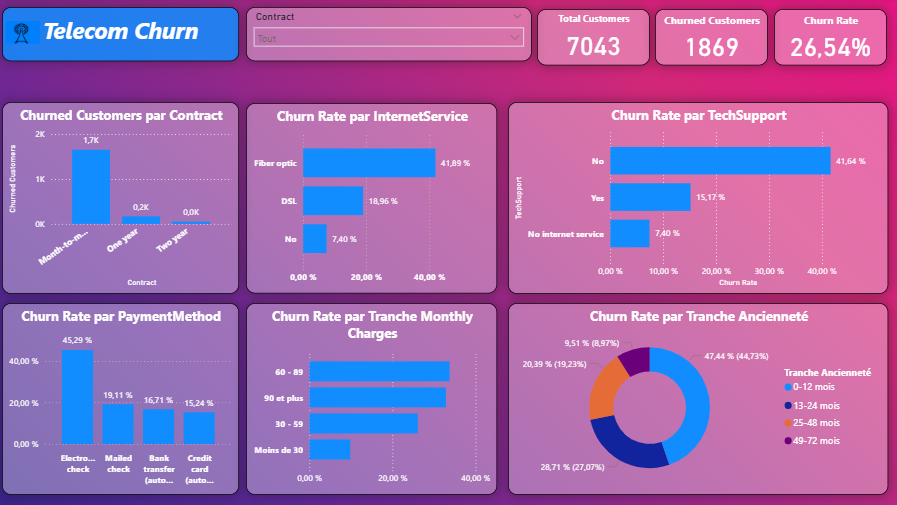

Layout of this report page (visuals, bound fields, positions):
{"tool":"powerbi","page":{"name":"Telecom churn","canvas":[1280,720],"ordinal":0},"visuals":[{"type":"textbox","box":[9.4,12.1,336.3,76.7],"z":0},{"type":"donutChart","fields":{"Category":["gold_fact_customer_churn.Tranche Ancienneté"],"Y":["gold_dim_contract.Churn Rate"]},"box":[727.7,431.8,539.4,271.7],"z":1000},{"type":"barChart","fields":{"Category":["gold_dim_customer.TechSupport"],"Y":["gold_dim_contract.Churn Rate"]},"box":[727.7,148,539.4,271.7],"z":2000},{"type":"clusteredColumnChart","fields":{"Y":["gold_dim_contract.Churn Rate"],"Category":["gold_dim_customer.PaymentMethod"]},"box":[9.4,431.8,336.3,271.7],"z":3000},{"type":"barChart","fields":{"Category":["gold_dim_customer.InternetService"],"Y":["gold_dim_contract.Churn Rate"]},"box":[355.1,149.3,356.5,270.4],"z":4000},{"type":"card","title":"Churn Rate","fields":{"Values":["gold_dim_contract.Churn Rate1"]},"box":[1104,16,160,80],"z":5000},{"type":"card","title":"Total Customers","fields":{"Values":["gold_dim_contract.Total Customers"]},"box":[768,16,160,80],"z":6000},{"type":"clusteredColumnChart","fields":{"Category":["gold_dim_contract.Contract"],"Y":["gold_dim_contract.Churned Customers"]},"box":[9.4,148,336.3,271.7],"z":7000},{"type":"clusteredBarChart","fields":{"Category":["gold_fact_customer_churn.Tranche Monthly Charges"],"Y":["gold_dim_contract.Churn Rate"]},"box":[355.1,431.8,356.5,271.7],"z":8000},{"type":"slicer","fields":{"Values":["gold_dim_contract.Contract"]},"box":[355.1,12.1,404.9,76.7],"z":9000},{"type":"card","title":"Churned Customers","fields":{"Values":["gold_dim_contract.Total Customers"]},"box":[936,16,160,80],"z":10000},{"type":"image","box":[16,32,48,32],"z":11000}]}

Visuals, with their boxes in screenshot pixels (x1, y1, x2, y2), scaled from the page's 1280x720 canvas onto the 897x505 screenshot:
textbox: [7, 8, 242, 62]
donutChart - gold_fact_customer_churn.Tranche Ancienneté x gold_dim_contract.Churn Rate: [510, 303, 888, 493]
barChart - gold_dim_customer.TechSupport x gold_dim_contract.Churn Rate: [510, 104, 888, 294]
clusteredColumnChart - gold_dim_contract.Churn Rate x gold_dim_customer.PaymentMethod: [7, 303, 242, 493]
barChart - gold_dim_customer.InternetService x gold_dim_contract.Churn Rate: [249, 105, 499, 294]
"Churn Rate" card: [774, 11, 886, 67]
"Total Customers" card: [538, 11, 650, 67]
clusteredColumnChart - gold_dim_contract.Contract x gold_dim_contract.Churned Customers: [7, 104, 242, 294]
clusteredBarChart - gold_fact_customer_churn.Tranche Monthly Charges x gold_dim_contract.Churn Rate: [249, 303, 499, 493]
slicer - gold_dim_contract.Contract: [249, 8, 533, 62]
"Churned Customers" card: [656, 11, 768, 67]
image: [11, 22, 45, 45]
